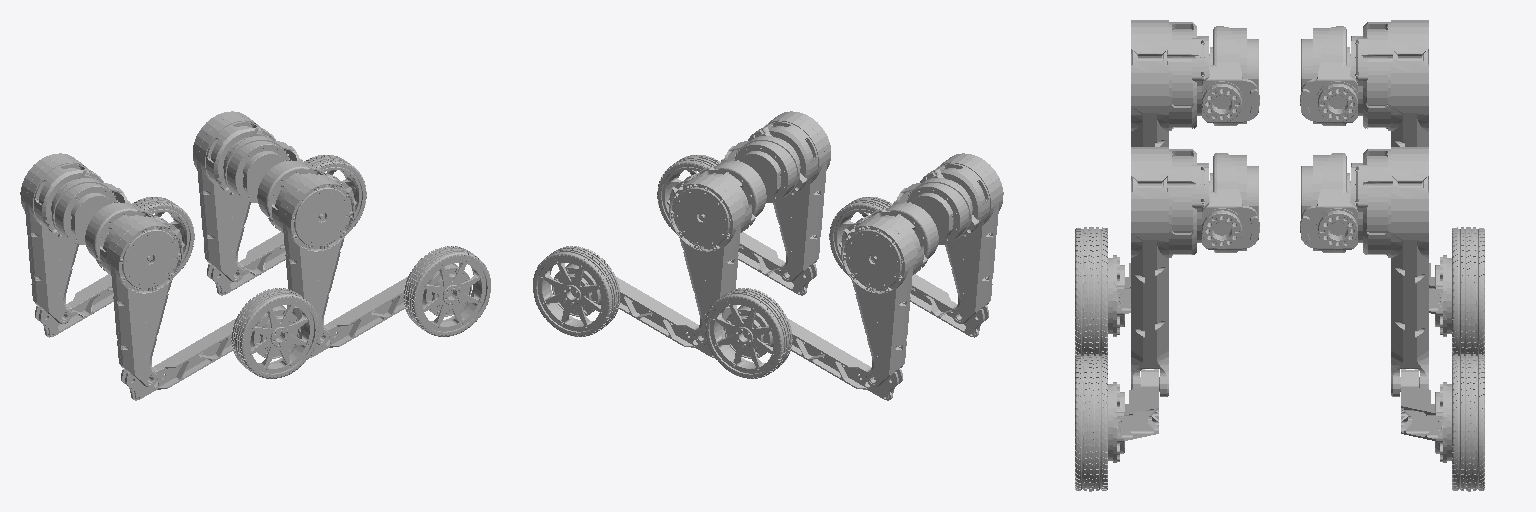
URDF robot description (wl4v2_description):
<?xml version="1.0" ?>
<!-- =================================================================================== -->
<!-- |    This document was autogenerated by xacro from src/robot_descriptions/wl4v2_description/xacro/robot.xacro | -->
<!-- |    EDITING THIS FILE BY HAND IS NOT RECOMMENDED                                 | -->
<!-- =================================================================================== -->
<robot name="wl4v2_description">
  <link name="base_link">
    <inertial>
      <origin rpy="0 0 0" xyz="0.028183 9.9161E-05 0.022942"/>
      <mass value="17.757"/>
      <inertia ixx="0.14772676" ixy="0.00014152" ixz="0.02286041" iyy="0.90507429" iyz="-0.00011715" izz="0.86983224" />
    </inertial>
    <visual>
      <origin rpy="0 0 0" xyz="0 0 0"/>
      <geometry>
        <mesh filename="../meshes/base_link.STL"/>
      </geometry>
      <material name="">
        <color rgba="0.75294 0.75294 0.75294 1"/>
      </material>
    </visual>
    <collision>
      <origin rpy="0 0 0" xyz="0 0 0"/>
      <geometry>
        <box size="0.75 0.15 0.21"/>
      </geometry>
    </collision>
    <collision>
      <origin rpy="1.5708 0 0" xyz="-0.367 0 -0.145"/>
      <geometry>
        <cylinder length="0.097" radius="0.02"/>
      </geometry>
    </collision>
    <collision>
      <origin rpy="1.5708 0 0" xyz="0.323 0 -0.145"/>
      <geometry>
        <cylinder length="0.097" radius="0.02"/>
      </geometry>
    </collision>
  </link>
  <link name="FL_hip">
    <inertial>
      <origin rpy="0 0 0" xyz="-0.013641 5.871E-05 0.0046903"/>
      <mass value="1.7668"/>
      <inertia ixx="0.0031579" ixy="-1.3503E-07" ixz="6.3545E-05" iyy="0.0020299" iyz="-1.5406E-06" izz="0.0018117"/>
    </inertial>
    <visual>
      <origin rpy="0 0 0" xyz="0 0 0"/>
      <geometry>
        <mesh filename="../meshes/FL1.STL"/>
      </geometry>
      <material name="">
        <color rgba="0.75294 0.75294 0.75294 1"/>
      </material>
    </visual>
  </link>
  <joint name="FL_hip_joint" type="revolute">
    <origin rpy="1.5708 0 1.5708" xyz="0.1875 0.0725 0"/>
    <parent link="base_link"/>
    <child link="FL_hip"/>
    <axis xyz="0 0 1"/>
    <dynamics damping="0" friction="0"/>
    <limit effort="100" lower="-0.7853981633974483" upper="0.7853981633974483" velocity="20"/>
  </joint>
  <link name="FL_thigh">
    <inertial>
      <origin rpy="0 0 0" xyz="0.035067 0.0019339 -0.023075"/>
      <mass value="3.1563"/>
      <inertia ixx="0.0034329" ixy="-0.00080482" ixz="8.0562E-07" iyy="0.012087" iyz="1.2422E-06" izz="0.014635"/>
    </inertial>
    <visual>
      <origin rpy="0 0 0" xyz="0 0 0"/>
      <geometry>
        <mesh filename="../meshes/FL2.STL"/>
      </geometry>
      <material name="">
        <color rgba="0.75294 0.75294 0.75294 1"/>
      </material>
    </visual>
    <collision>
      <origin rpy="0 0 0.262" xyz="0.05 0 0"/>
      <geometry>
        <box size="0.21 0.11 0.05"/>
      </geometry>
    </collision>
  </link>
  <joint name="FL_thigh_joint" type="revolute">
    <origin rpy="-1.5708 0 -1.5708" xyz="0.09 0 0"/>
    <parent link="FL_hip"/>
    <child link="FL_thigh"/>
    <axis xyz="0 0 1"/>
    <dynamics damping="0" friction="0"/>
    <limit effort="100" lower="-1.5707963267948966" upper="3.141592653589793" velocity="20"/>
  </joint>
  <link name="FL_calf">
    <inertial>
      <origin rpy="0 0 0" xyz="0.1249 0.0063995 0.013264"/>
      <mass value="0.37813"/>
      <inertia ixx="0.0002331" ixy="0.00013197" ixz="-0.00043038" iyy="0.0040133" iyz="1.6641E-05" izz="0.0040528"/>
    </inertial>
    <visual>
      <origin rpy="0 0 0" xyz="0 0 0"/>
      <geometry>
        <mesh filename="../meshes/FL3.STL"/>
      </geometry>
      <material name="">
        <color rgba="0.75294 0.75294 0.75294 1"/>
      </material>
    </visual>
    <collision>
      <origin rpy="0 0 -0.08" xyz="0.12 0 0"/>
      <geometry>
        <box size="0.3 0.05 0.02"/>
      </geometry>
    </collision>
  </link>
  <joint name="FL_calf_joint" type="revolute">
    <origin rpy="0 0 0" xyz="0.25 0 0"/>
    <parent link="FL_thigh"/>
    <child link="FL_calf"/>
    <axis xyz="0 0 1"/>
    <dynamics damping="0" friction="0"/>
    <limit effort="100" lower="-2.775" upper="-0.855" velocity="20"/>
  </joint>
  <link name="FL_foot">
    <inertial>
      <origin rpy="0 0 0" xyz="-1.2945E-05 -2.1532E-05 -0.0039972"/>
      <mass value="1.4038"/>
      <inertia ixx="0.0020344" ixy="-1.4297E-07" ixz="-4.821E-07" iyy="0.0020346" iyz="-6.5526E-07" izz="0.0038324"/>
    </inertial>
    <visual>
      <origin rpy="0 0 0" xyz="0 0 0"/>
      <geometry>
        <mesh filename="../meshes/FL4.STL"/>
      </geometry>
      <material name="">
        <color rgba="0.75294 0.75294 0.75294 1"/>
      </material>
    </visual>
    <collision>
      <origin rpy="0 0 0" xyz="0 0 0"/>
      <geometry>
        <cylinder length="0.04" radius="0.085"/>
      </geometry>
    </collision>
  </link>
  <joint name="FL_foot_joint" type="revolute">
    <origin rpy="0 0 0" xyz="0.25 0 0.07295"/>
    <parent link="FL_calf"/>
    <child link="FL_foot"/>
    <axis xyz="0 0 1"/>
    <dynamics damping="0" friction="0"/>
    <limit effort="20" lower="-1000000.0" upper="1000000.0" velocity="12.5"/>
  </joint>
  <link name="FR_hip">
    <inertial>
      <origin rpy="0 0 0" xyz="0.013641 5.8677E-05 0.0046903"/>
      <mass value="1.7668"/>
      <inertia ixx="0.0031579" ixy="1.3594E-07" ixz="-6.3545E-05" iyy="0.0020299" iyz="-1.5404E-06" izz="0.0018117"/>
    </inertial>
    <visual>
      <origin rpy="0 0 0" xyz="0 0 0"/>
      <geometry>
        <mesh filename="../meshes/FR1.STL"/>
      </geometry>
      <material name="">
        <color rgba="0.75294 0.75294 0.75294 1"/>
      </material>
    </visual>
  </link>
  <joint name="FR_hip_joint" type="revolute">
    <origin rpy="1.5708 0 1.5708" xyz="0.1875 -0.0725 0"/>
    <parent link="base_link"/>
    <child link="FR_hip"/>
    <axis xyz="0 0 1"/>
    <dynamics damping="0" friction="0"/>
    <limit effort="100" lower="-0.7853981633974483" upper="0.7853981633974483" velocity="20"/>
  </joint>
  <link name="FR_thigh">
    <inertial>
      <origin rpy="0 0 0" xyz="0.035067 0.0019339 0.023075"/>
      <mass value="3.1563"/>
      <inertia ixx="0.0034329" ixy="-0.00080482" ixz="-8.0705E-07" iyy="0.012087" iyz="-1.2402E-06" izz="0.014635"/>
    </inertial>
    <visual>
      <origin rpy="0 0 0" xyz="0 0 0"/>
      <geometry>
        <mesh filename="../meshes/FR2.STL"/>
      </geometry>
      <material name="">
        <color rgba="0.75294 0.75294 0.75294 1"/>
      </material>
    </visual>
    <collision>
      <origin rpy="0 0 0.262" xyz="0.05 0 0"/>
      <geometry>
        <box size="0.21 0.11 0.05"/>
      </geometry>
    </collision>
  </link>
  <joint name="FR_thigh_joint" type="revolute">
    <origin rpy="-1.5708 0 -1.5708" xyz="-0.09 0 0"/>
    <parent link="FR_hip"/>
    <child link="FR_thigh"/>
    <axis xyz="0 0 1"/>
    <dynamics damping="0" friction="0"/>
    <limit effort="100" lower="-1.5707963267948966" upper="3.141592653589793" velocity="20"/>
  </joint>
  <link name="FR_calf">
    <inertial>
      <origin rpy="0 0 0" xyz="0.1249 0.0063995 -0.013264"/>
      <mass value="0.37813"/>
      <inertia ixx="0.0002331" ixy="0.00013197" ixz="0.00043038" iyy="0.0040133" iyz="-1.6641E-05" izz="0.0040528"/>
    </inertial>
    <visual>
      <origin rpy="0 0 0" xyz="0 0 0"/>
      <geometry>
        <mesh filename="../meshes/FR3.STL"/>
      </geometry>
      <material name="">
        <color rgba="0.75294 0.75294 0.75294 1"/>
      </material>
    </visual>
    <collision>
      <origin rpy="0 0 -0.08" xyz="0.12 0 0"/>
      <geometry>
        <box size="0.3 0.05 0.02"/>
      </geometry>
    </collision>
  </link>
  <joint name="FR_calf_joint" type="revolute">
    <origin rpy="0 0 0" xyz="0.25 0 0"/>
    <parent link="FR_thigh"/>
    <child link="FR_calf"/>
    <axis xyz="0 0 1"/>
    <dynamics damping="0" friction="0"/>
    <limit effort="100" lower="-2.775" upper="-0.855" velocity="20"/>
  </joint>
  <link name="FR_foot">
    <inertial>
      <origin rpy="0 0 0" xyz="-1.2936E-05 -2.1528E-05 0.0039972"/>
      <mass value="1.4038"/>
      <inertia ixx="0.0020344" ixy="-1.4312E-07" ixz="4.8214E-07" iyy="0.0020345" iyz="6.5534E-07" izz="0.0038324"/>
    </inertial>
    <visual>
      <origin rpy="0 0 0" xyz="0 0 0"/>
      <geometry>
        <mesh filename="../meshes/FR4.STL"/>
      </geometry>
      <material name="">
        <color rgba="0.75294 0.75294 0.75294 1"/>
      </material>
    </visual>
    <collision>
      <origin rpy="0 0 0" xyz="0 0 0"/>
      <geometry>
        <cylinder length="0.04" radius="0.085"/>
      </geometry>
    </collision>
  </link>
  <joint name="FR_foot_joint" type="revolute">
    <origin rpy="0 0 0" xyz="0.25 0 -0.07295"/>
    <parent link="FR_calf"/>
    <child link="FR_foot"/>
    <axis xyz="0 0 1"/>
    <dynamics damping="0" friction="0"/>
    <limit effort="20" lower="-1000000.0" upper="1000000.0" velocity="12.5"/>
  </joint>
  <link name="RL_hip">
    <inertial>
      <origin rpy="0 0 0" xyz="-0.013641 5.871E-05 0.0046903"/>
      <mass value="1.7668"/>
      <inertia ixx="0.0031579" ixy="-1.3503E-07" ixz="6.3545E-05" iyy="0.0020299" iyz="-1.5406E-06" izz="0.0018117"/>
    </inertial>
    <visual>
      <origin rpy="0 0 0" xyz="0 0 0"/>
      <geometry>
        <mesh filename="../meshes/RL1.STL"/>
      </geometry>
      <material name="">
        <color rgba="0.75294 0.75294 0.75294 1"/>
      </material>
    </visual>
  </link>
  <joint name="RL_hip_joint" type="revolute">
    <origin rpy="1.5708 0 1.5708" xyz="-0.1875 0.0725 0"/>
    <parent link="base_link"/>
    <child link="RL_hip"/>
    <axis xyz="0 0 1"/>
    <dynamics damping="0" friction="0"/>
    <limit effort="100" lower="-0.7853981633974483" upper="0.7853981633974483" velocity="20"/>
  </joint>
  <link name="RL_thigh">
    <inertial>
      <origin rpy="0 0 0" xyz="0.035067 0.0019339 -0.023075"/>
      <mass value="3.1563"/>
      <inertia ixx="0.0034329" ixy="-0.00080482" ixz="8.0563E-07" iyy="0.012087" iyz="1.2422E-06" izz="0.014635"/>
    </inertial>
    <visual>
      <origin rpy="0 0 0" xyz="0 0 0"/>
      <geometry>
        <mesh filename="../meshes/RL2.STL"/>
      </geometry>
      <material name="">
        <color rgba="0.75294 0.75294 0.75294 1"/>
      </material>
    </visual>
    <collision>
      <origin rpy="0 0 0.262" xyz="0.05 0 0"/>
      <geometry>
        <box size="0.21 0.11 0.05"/>
      </geometry>
    </collision>
  </link>
  <joint name="RL_thigh_joint" type="revolute">
    <origin rpy="-1.5708 0 -1.5708" xyz="0.09 0 0"/>
    <parent link="RL_hip"/>
    <child link="RL_thigh"/>
    <axis xyz="0 0 1"/>
    <dynamics damping="0" friction="0"/>
    <limit effort="100" lower="-1.5707963267948966" upper="3.141592653589793" velocity="20"/>
  </joint>
  <link name="RL_calf">
    <inertial>
      <origin rpy="0 0 0" xyz="0.1249 0.0063995 0.013264"/>
      <mass value="0.37813"/>
      <inertia ixx="0.0002331" ixy="0.00013197" ixz="-0.00043038" iyy="0.0040133" iyz="1.6641E-05" izz="0.0040528"/>
    </inertial>
    <visual>
      <origin rpy="0 0 0" xyz="0 0 0"/>
      <geometry>
        <mesh filename="../meshes/RL3.STL"/>
      </geometry>
      <material name="">
        <color rgba="0.75294 0.75294 0.75294 1"/>
      </material>
    </visual>
    <collision>
      <origin rpy="0 0 -0.08" xyz="0.12 0 0"/>
      <geometry>
        <box size="0.3 0.05 0.02"/>
      </geometry>
    </collision>
  </link>
  <joint name="RL_calf_joint" type="revolute">
    <origin rpy="0 0 0" xyz="0.25 0 0"/>
    <parent link="RL_thigh"/>
    <child link="RL_calf"/>
    <axis xyz="0 0 1"/>
    <dynamics damping="0" friction="0"/>
    <limit effort="100" lower="-2.775" upper="-0.855" velocity="20"/>
  </joint>
  <link name="RL_foot">
    <inertial>
      <origin rpy="0 0 0" xyz="-1.2945E-05 -2.1532E-05 -0.0039972"/>
      <mass value="1.4038"/>
      <inertia ixx="0.0020344" ixy="-1.4297E-07" ixz="-4.821E-07" iyy="0.0020346" iyz="-6.5526E-07" izz="0.0038324"/>
    </inertial>
    <visual>
      <origin rpy="0 0 0" xyz="0 0 0"/>
      <geometry>
        <mesh filename="../meshes/RL4.STL"/>
      </geometry>
      <material name="">
        <color rgba="0.75294 0.75294 0.75294 1"/>
      </material>
    </visual>
    <collision>
      <origin rpy="0 0 0" xyz="0 0 0"/>
      <geometry>
        <cylinder length="0.04" radius="0.085"/>
      </geometry>
    </collision>
  </link>
  <joint name="RL_foot_joint" type="revolute">
    <origin rpy="0 0 0" xyz="0.25 0 0.07295"/>
    <parent link="RL_calf"/>
    <child link="RL_foot"/>
    <axis xyz="0 0 1"/>
    <dynamics damping="0" friction="0"/>
    <limit effort="20" lower="-1000000.0" upper="1000000.0" velocity="12.5"/>
  </joint>
  <link name="RR_hip">
    <inertial>
      <origin rpy="0 0 0" xyz="0.013641 5.8677E-05 0.0046903"/>
      <mass value="1.7668"/>
      <inertia ixx="0.0031579" ixy="1.3594E-07" ixz="-6.3545E-05" iyy="0.0020299" iyz="-1.5404E-06" izz="0.0018117"/>
    </inertial>
    <visual>
      <origin rpy="0 0 0" xyz="0 0 0"/>
      <geometry>
        <mesh filename="../meshes/RR1.STL"/>
      </geometry>
      <material name="">
        <color rgba="0.75294 0.75294 0.75294 1"/>
      </material>
    </visual>
  </link>
  <joint name="RR_hip_joint" type="revolute">
    <origin rpy="1.5708 0 1.5708" xyz="-0.1875 -0.0725 0"/>
    <parent link="base_link"/>
    <child link="RR_hip"/>
    <axis xyz="0 0 1"/>
    <dynamics damping="0" friction="0"/>
    <limit effort="100" lower="-0.7853981633974483" upper="0.7853981633974483" velocity="20"/>
  </joint>
  <link name="RR_thigh">
    <inertial>
      <origin rpy="0 0 0" xyz="0.035067 0.0019339 0.023075"/>
      <mass value="3.1563"/>
      <inertia ixx="0.0034329" ixy="-0.00080482" ixz="-8.0705E-07" iyy="0.012087" iyz="-1.2402E-06" izz="0.014635"/>
    </inertial>
    <visual>
      <origin rpy="0 0 0" xyz="0 0 0"/>
      <geometry>
        <mesh filename="../meshes/RR2.STL"/>
      </geometry>
      <material name="">
        <color rgba="0.75294 0.75294 0.75294 1"/>
      </material>
    </visual>
    <collision>
      <origin rpy="0 0 0.262" xyz="0.05 0 0"/>
      <geometry>
        <box size="0.21 0.11 0.05"/>
      </geometry>
    </collision>
  </link>
  <joint name="RR_thigh_joint" type="revolute">
    <origin rpy="-1.5708 0 -1.5708" xyz="-0.09 0 0"/>
    <parent link="RR_hip"/>
    <child link="RR_thigh"/>
    <axis xyz="0 0 1"/>
    <dynamics damping="0" friction="0"/>
    <limit effort="100" lower="-1.5707963267948966" upper="3.141592653589793" velocity="20"/>
  </joint>
  <link name="RR_calf">
    <inertial>
      <origin rpy="0 0 0" xyz="0.1249 0.0063995 -0.013264"/>
      <mass value="0.37813"/>
      <inertia ixx="0.0002331" ixy="0.00013197" ixz="0.00043038" iyy="0.0040133" iyz="-1.6641E-05" izz="0.0040528"/>
    </inertial>
    <visual>
      <origin rpy="0 0 0" xyz="0 0 0"/>
      <geometry>
        <mesh filename="../meshes/RR3.STL"/>
      </geometry>
      <material name="">
        <color rgba="0.75294 0.75294 0.75294 1"/>
      </material>
    </visual>
    <collision>
      <origin rpy="0 0 -0.08" xyz="0.12 0 0"/>
      <geometry>
        <box size="0.3 0.05 0.02"/>
      </geometry>
    </collision>
  </link>
  <joint name="RR_calf_joint" type="revolute">
    <origin rpy="0 0 0" xyz="0.25 0 0"/>
    <parent link="RR_thigh"/>
    <child link="RR_calf"/>
    <axis xyz="0 0 1"/>
    <dynamics damping="0" friction="0"/>
    <limit effort="100" lower="-2.775" upper="-0.855" velocity="20"/>
  </joint>
  <link name="RR_foot">
    <inertial>
      <origin rpy="0 0 0" xyz="-1.2936E-05 -2.1528E-05 0.0039972"/>
      <mass value="1.4038"/>
      <inertia ixx="0.0020344" ixy="-1.4312E-07" ixz="4.8214E-07" iyy="0.0020345" iyz="6.5534E-07" izz="0.0038324"/>
    </inertial>
    <visual>
      <origin rpy="0 0 0" xyz="0 0 0"/>
      <geometry>
        <mesh filename="../meshes/RR4.STL"/>
      </geometry>
      <material name="">
        <color rgba="0.75294 0.75294 0.75294 1"/>
      </material>
    </visual>
    <collision>
      <origin rpy="0 0 0" xyz="0 0 0"/>
      <geometry>
        <cylinder length="0.04" radius="0.085"/>
      </geometry>
    </collision>
  </link>
  <joint name="RR_foot_joint" type="revolute">
    <origin rpy="0 0 0" xyz="0.25 0 -0.07295"/>
    <parent link="RR_calf"/>
    <child link="RR_foot"/>
    <axis xyz="0 0 1"/>
    <dynamics damping="0" friction="0"/>
    <limit effort="20" lower="-1000000.0" upper="1000000.0" velocity="12.5"/>
  </joint>
</robot>

--- What the picture shows (computed from the rendered views, not written in the file) ---
3 views of the same robot in one strip: view 1: azimuth 30°, elevation 25°; view 2: azimuth 150°, elevation 25°; view 3: azimuth 270°, elevation 25° (orthographic).
Model wl4v2_description with 17 links and 16 joints (16 revolute), rooted at base_link, posed joints at zero except 4 at the middle of their limits (FL_calf_joint = -1.81, FR_calf_joint = -1.81, RL_calf_joint = -1.81, RR_calf_joint = -1.81).
Links seen in each view (by area): view 1: RR_thigh, FR_thigh, RL_thigh, FL_thigh, FR_foot, RR_foot, RR_calf, FL_hip, RL_hip, FR_calf, FL_calf, RL_calf (+4 smaller); view 2: RL_thigh, FL_thigh, RR_thigh, FR_thigh, FL_foot, RL_foot, RL_calf, FR_hip, RR_hip, FL_calf, FR_calf, RR_calf (+4 smaller); view 3: FL_thigh, FR_thigh, RL_thigh, RR_thigh, FL_foot, FR_foot, FL_hip, FR_hip, RL_hip, RR_hip, RL_foot, RR_foot (+4 smaller).
Link boxes in pixels (x1,y1,x2,y2): RR_thigh: (96, 209, 182, 386); FR_thigh: (268, 167, 354, 344); RL_thigh: (20, 153, 103, 323); FL_thigh: (193, 111, 275, 281); FR_foot: (403, 246, 490, 336); RR_foot: (231, 288, 318, 378); RR_calf: (121, 305, 286, 400); FL_hip: (224, 136, 302, 202); RL_hip: (52, 178, 130, 244); FR_calf: (298, 263, 458, 357); FL_calf: (207, 180, 356, 295); RL_calf: (35, 222, 184, 337); RL_thigh: (841, 209, 927, 386); FL_thigh: (669, 167, 755, 344); RR_thigh: (920, 153, 1003, 323); FR_thigh: (748, 111, 830, 281); FL_foot: (533, 246, 620, 336); RL_foot: (705, 288, 792, 378); RL_calf: (737, 305, 902, 400); FR_hip: (721, 136, 799, 202); RR_hip: (893, 178, 971, 244); FL_calf: (565, 263, 725, 357); FR_calf: (667, 180, 816, 295); RR_calf: (839, 222, 988, 337); FL_thigh: (1350, 147, 1428, 396); FR_thigh: (1131, 147, 1209, 396); RL_thigh: (1350, 20, 1428, 146); RR_thigh: (1131, 20, 1209, 146); FL_foot: (1438, 354, 1484, 491); FR_foot: (1075, 354, 1121, 491); FL_hip: (1300, 153, 1357, 252); FR_hip: (1202, 153, 1259, 252); RL_hip: (1300, 26, 1357, 125); RR_hip: (1202, 26, 1259, 125); RL_foot: (1438, 227, 1484, 355); RR_foot: (1075, 227, 1121, 355).
Bounding box of the posed robot: 0.7733 × 0.5124 × 0.3668 m (x, y, z).
16 mesh visuals loaded from 17 distinct referenced files (16 binary STL); not drawn: 1 (reference not matched to a file when rendering).
